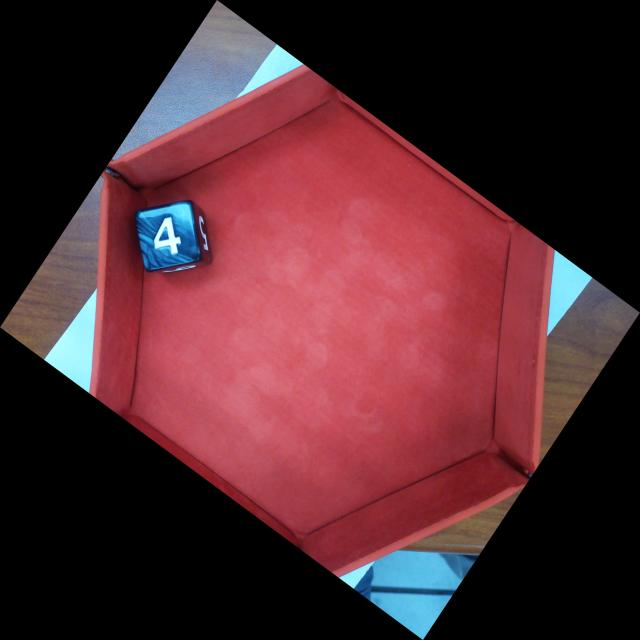dice: (135, 200, 202, 272)
